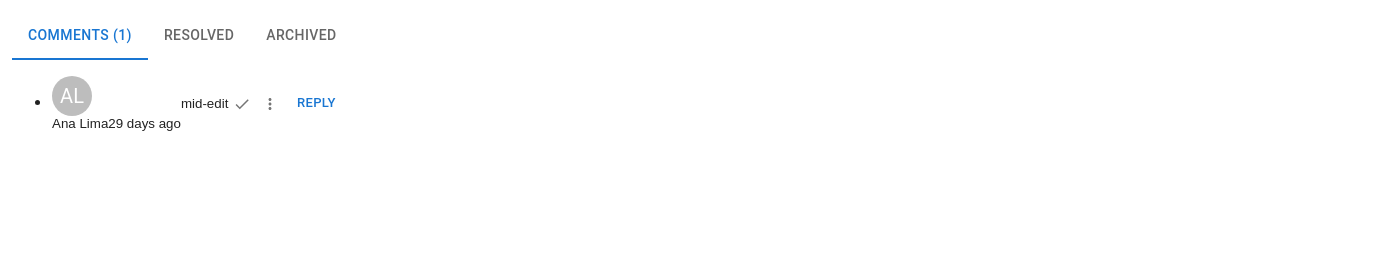
<CommentsPanel /> status tabs › the whole corner (Resolve + 3-dots) hides while editing
The image size is (1378, 270).
Expected: the button named "Resolve" is shown, [228,90,256,118]
Click the button named "Comment actions" at (270, 104), box [256,90,284,118]
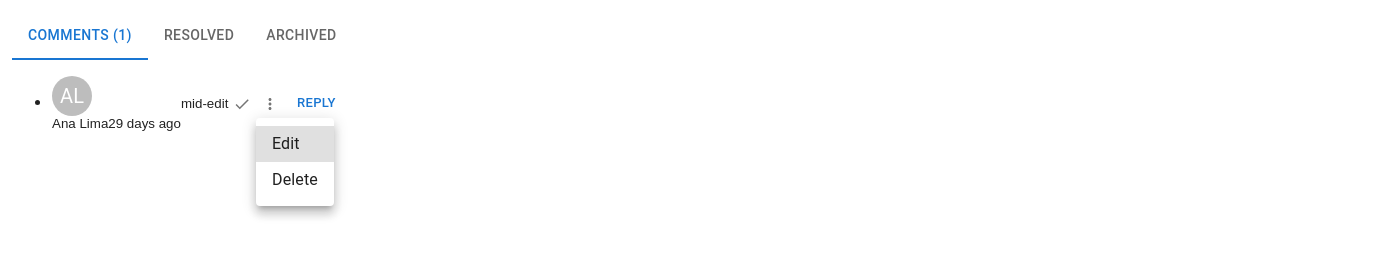
Click the menu item "Edit" at (295, 144), box [256,126,334,162]
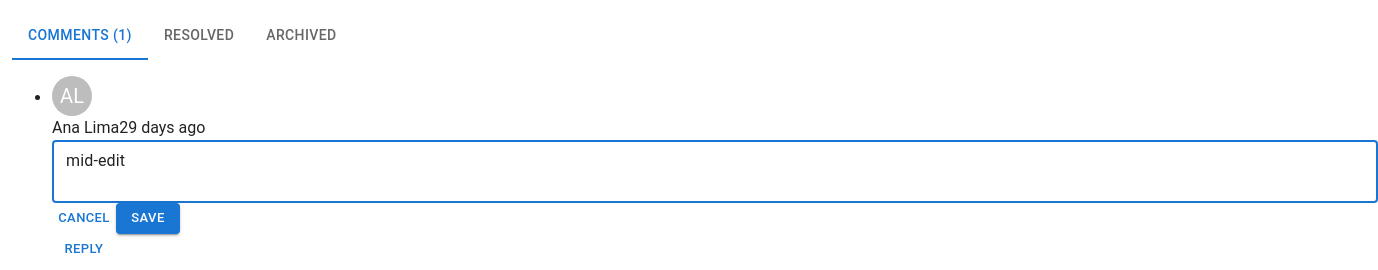
Now the text box named "Edit text" is shown, box [66,148,1364,194]
